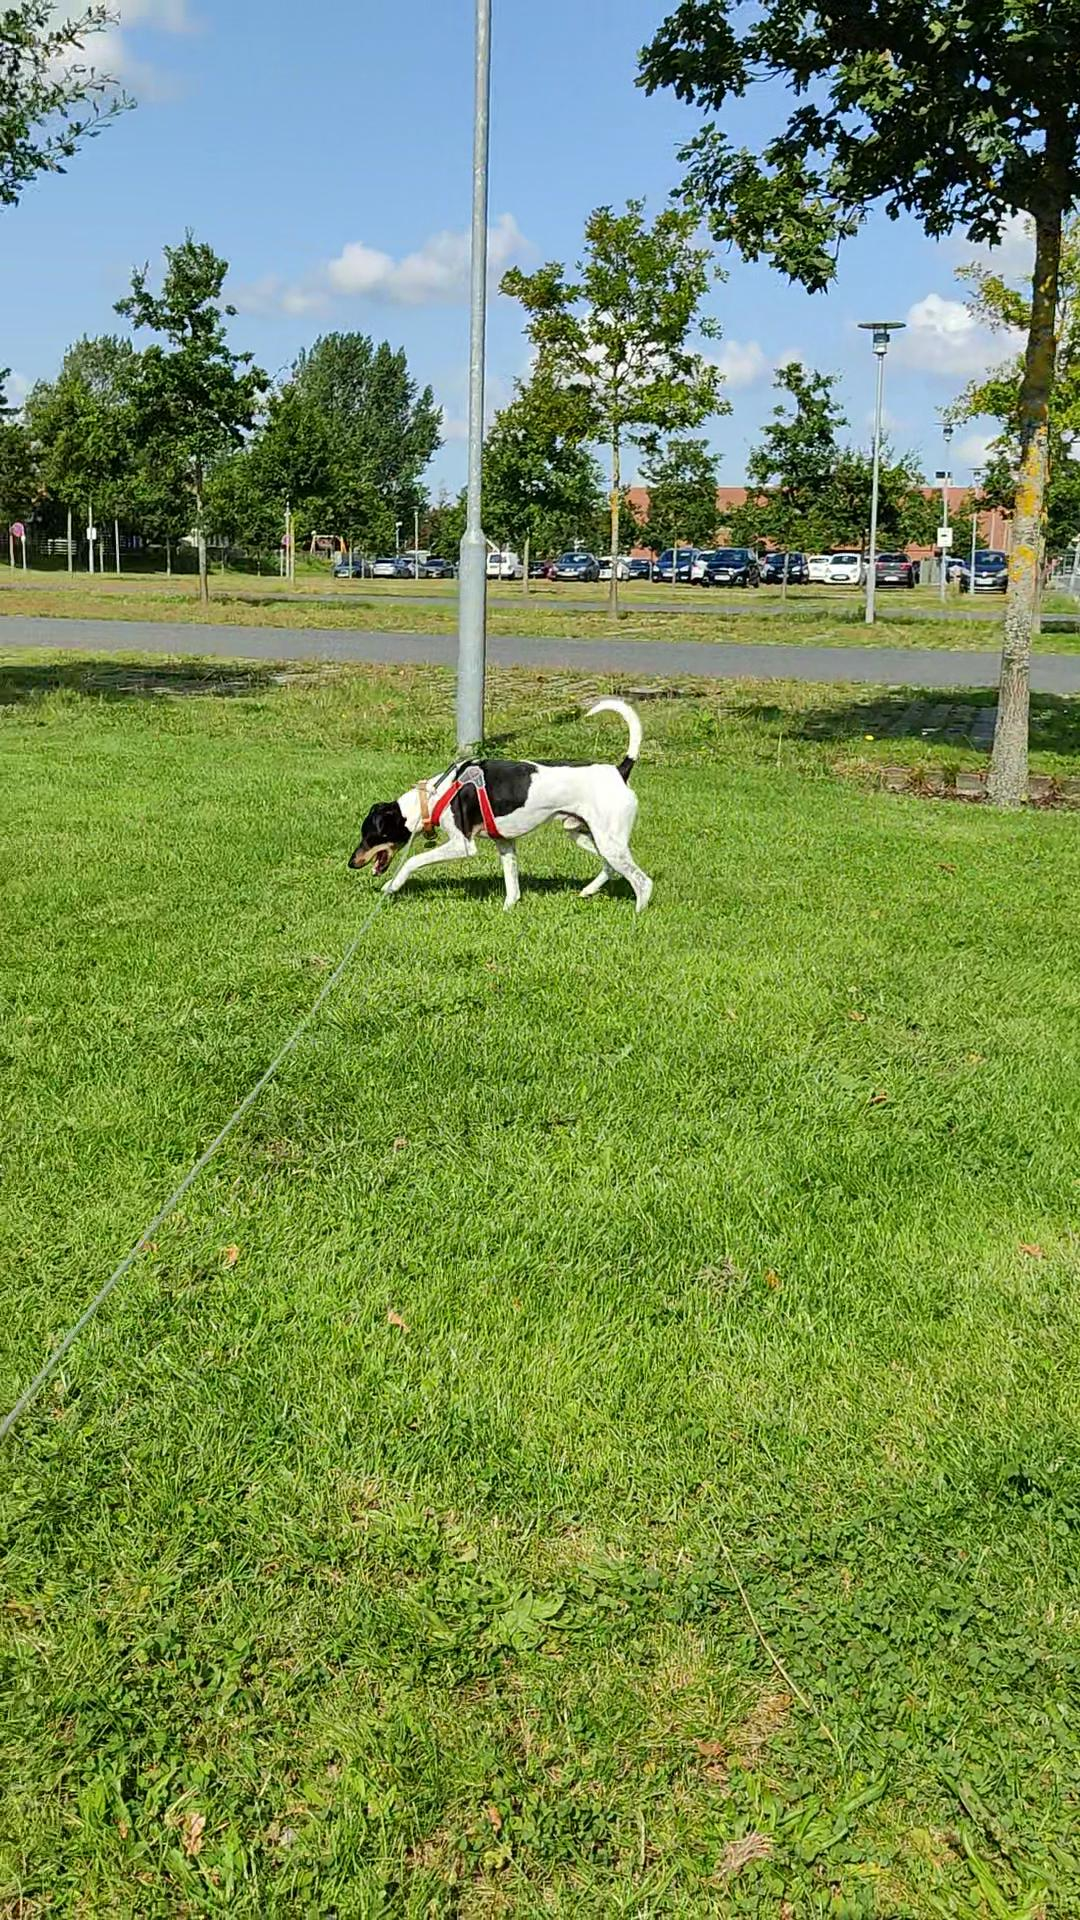Dog: (343, 682, 670, 919)
